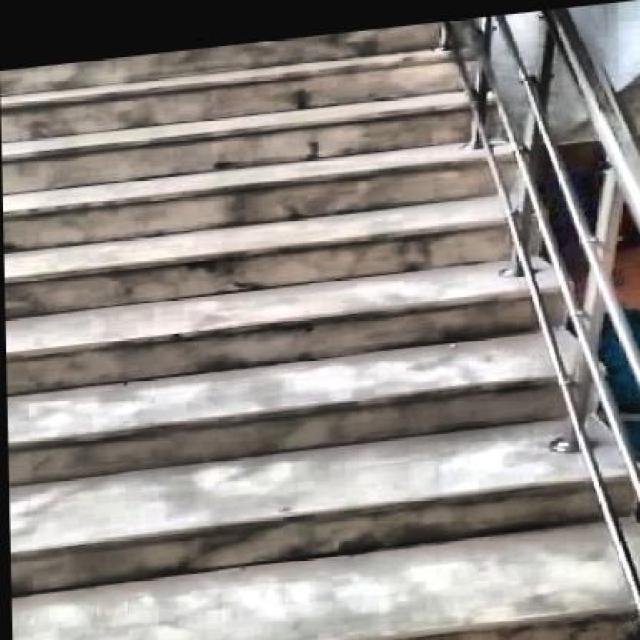stair: (0, 1, 622, 638)
